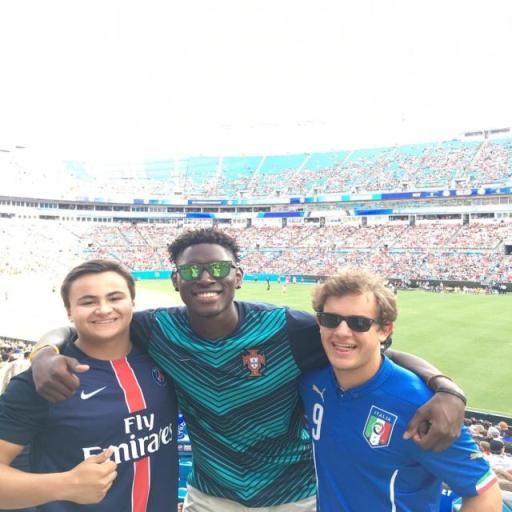Emirates: (81, 410, 174, 468)
